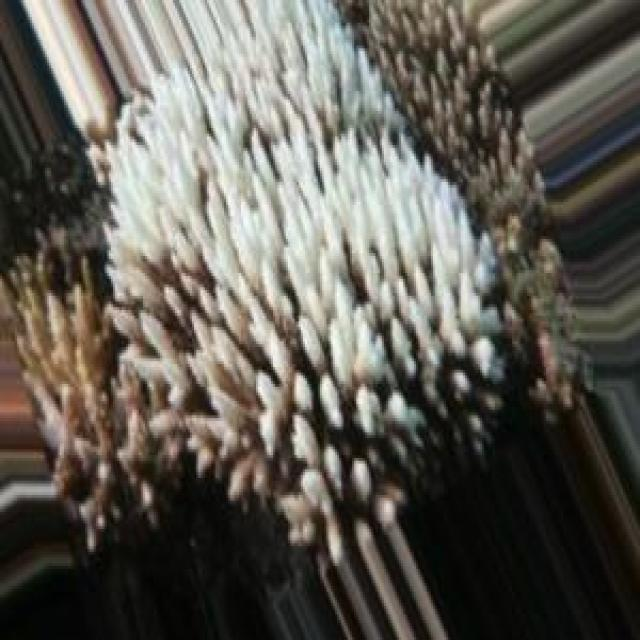Bleached: (107, 6, 511, 566)
